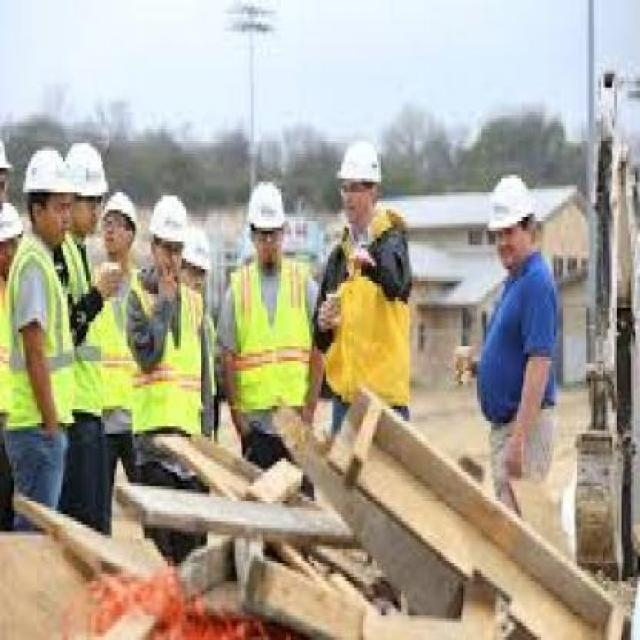Helmet: (142, 191, 196, 247), (486, 172, 536, 232), (238, 180, 292, 231), (339, 138, 387, 195), (21, 148, 76, 194), (69, 142, 105, 192), (100, 191, 140, 224), (0, 201, 18, 233), (4, 143, 10, 172)
Vest: (8, 234, 84, 438), (227, 259, 318, 412), (477, 260, 560, 414), (130, 275, 207, 437)
